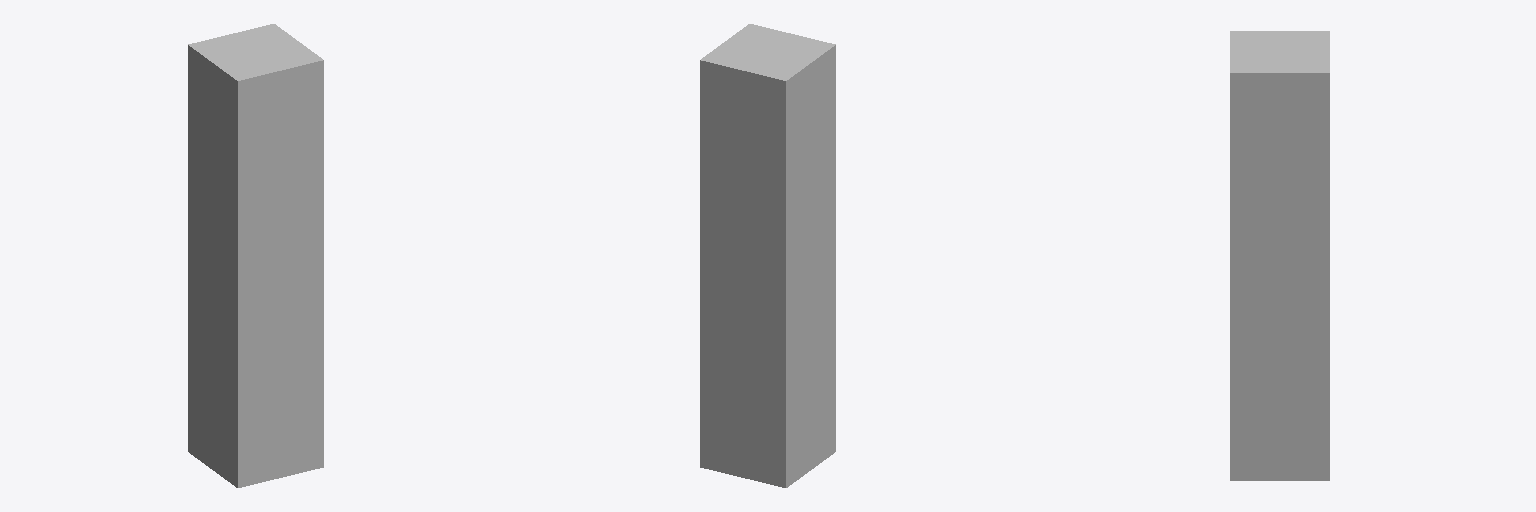
The model's file is thighL.obj.
3 views of the same model, side by side, from view 1: azimuth 30°, elevation 25°; view 2: azimuth 150°, elevation 25°; view 3: azimuth 270°, elevation 25° (orthographic).
Visible parts, largest first — view 1: thighL; view 2: thighL; view 3: thighL.
Part boxes in pixels (x1,y1,x2,y2): thighL: (188,24,323,487); thighL: (700,24,835,487); thighL: (1230,31,1329,480).
Bounding box in the file's own units: 0.2 × 0.9 × 0.2.